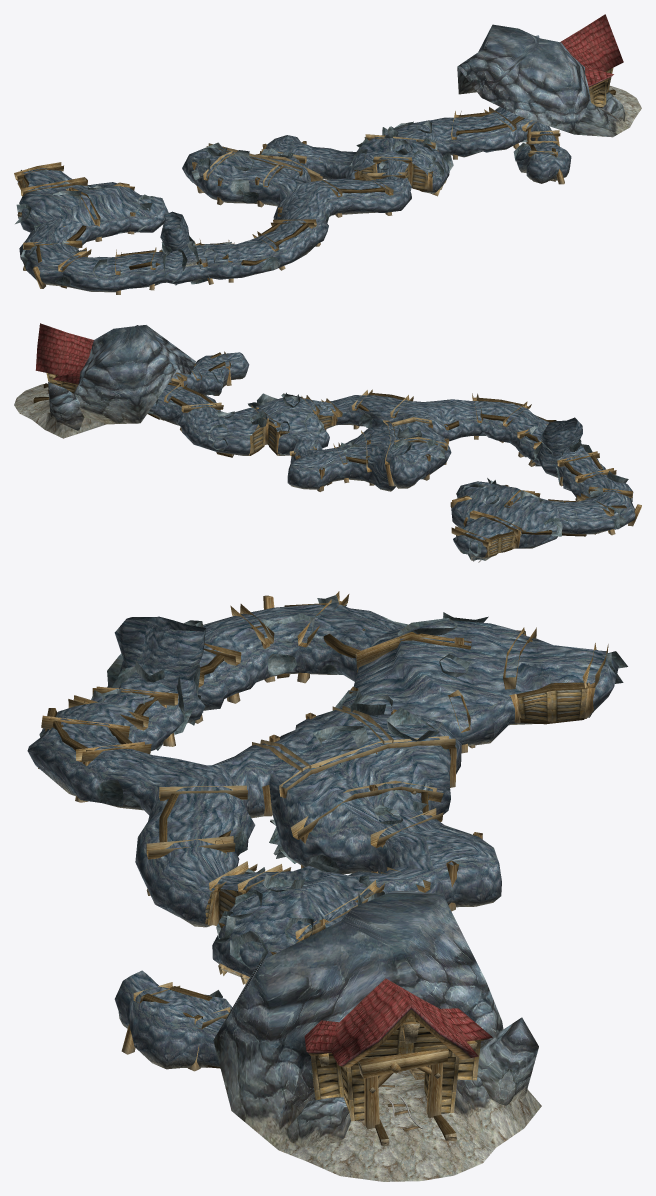
Rendered from md_goldmine.glb.
The picture shows the model from 3 angles, top to bottom: view 1: azimuth 30°, elevation 25°; view 2: azimuth 150°, elevation 25°; view 3: azimuth 270°, elevation 25°; orthographic projection. The views are drawn at different scales.
Bounding box in the file's own units: 187 × 31.98 × 82.83.
17 materials, 17 textured.
